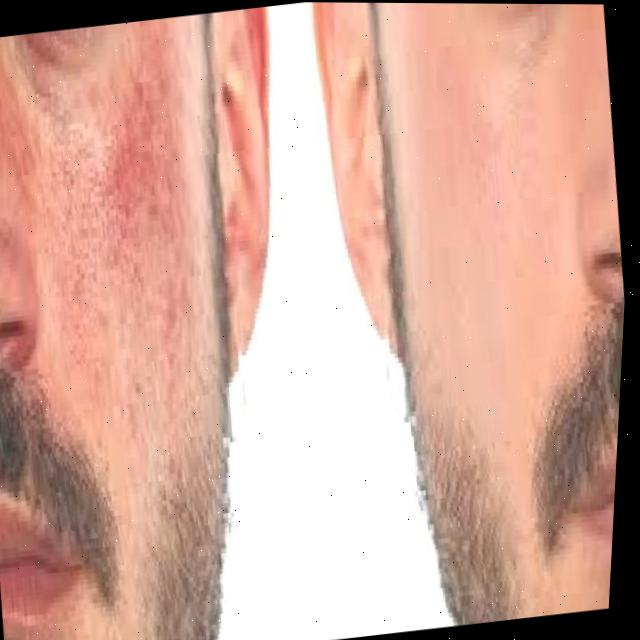Rosacea: (0, 20, 256, 381)
